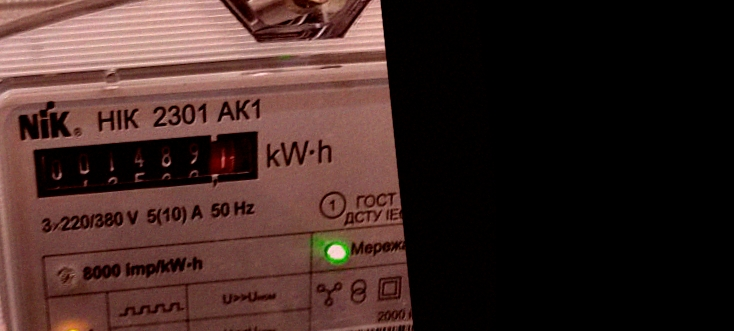0: (74, 148, 92, 175), (48, 155, 65, 182)
1: (103, 145, 120, 175), (215, 140, 230, 171)
4: (130, 143, 148, 170)
8: (156, 140, 175, 169)
9: (185, 139, 202, 166)
screen: (17, 114, 279, 215)
